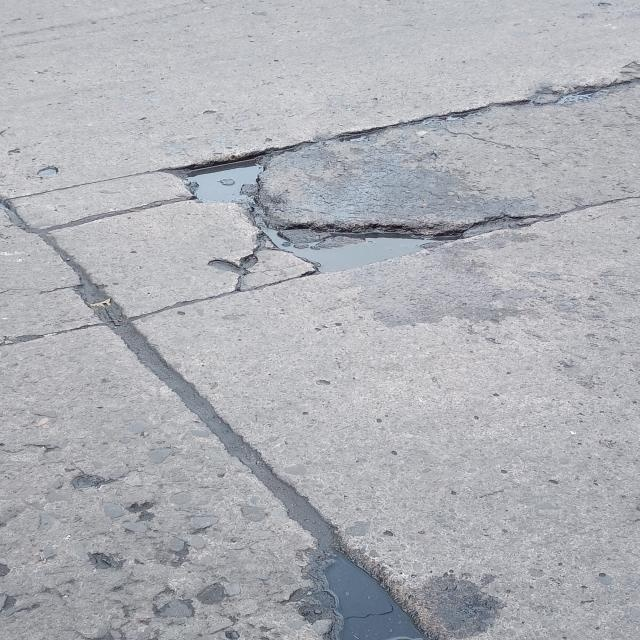pothole: (88, 122, 628, 348)
